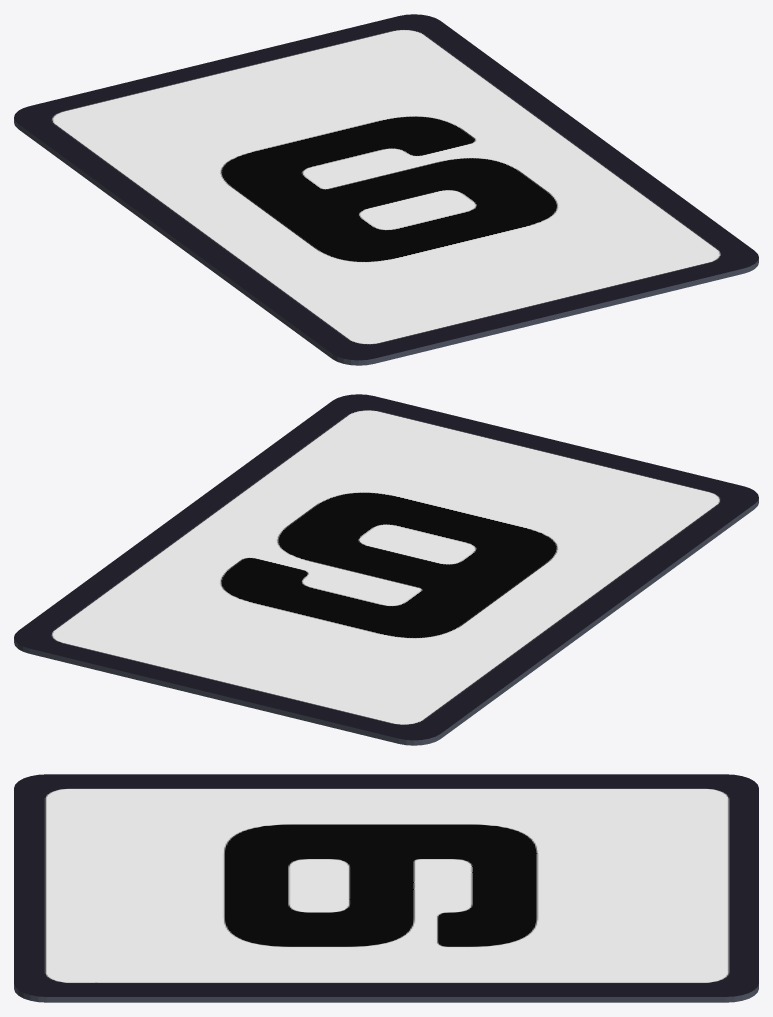
The picture shows the model from 3 angles, top to bottom: view 1: azimuth 30°, elevation 25°; view 2: azimuth 150°, elevation 25°; view 3: azimuth 270°, elevation 25°; orthographic projection. The views are drawn at different scales.
Visible parts, largest first — view 1: 立方体; view 2: 立方体; view 3: 立方体.
Part boxes in pixels (x1=…): 立方体: x1=14, y1=14, x2=758, y2=365; 立方体: x1=14, y1=394, x2=758, y2=745; 立方体: x1=14, y1=774, x2=758, y2=1002.
Size of the model in its own units: 8.4 by 0.1 by 11.88.
Materials: 3 (2 with a texture image).
